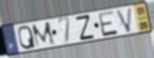7: (57, 15, 72, 46)
E: (97, 10, 120, 38)
M: (31, 20, 57, 49)
Q: (17, 24, 37, 51)
V: (115, 6, 134, 34)
Z: (74, 14, 96, 42)
